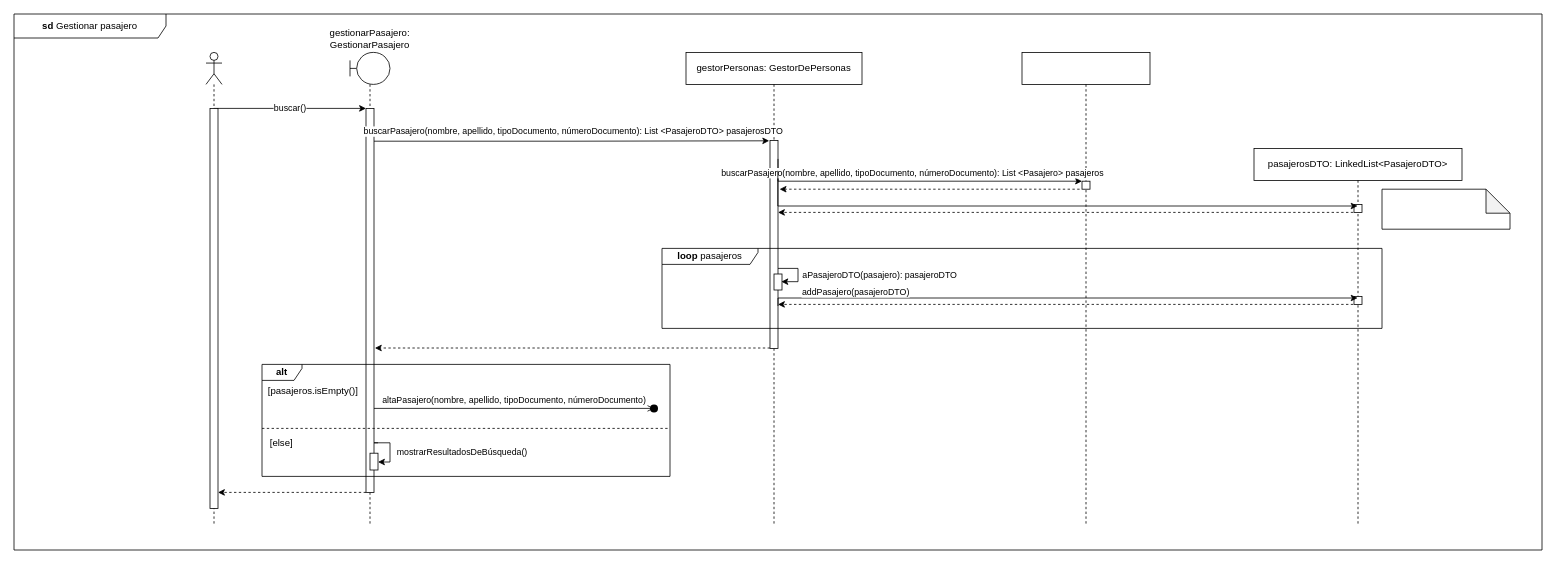
This 1556x564 diagram has some shape labels left out. Each missing label, with the box of its shape:
<<interface>> personaDAO: PersonaDAO: (1021, 52, 1150, 524)
JAVA Collections API: (1381, 188, 1510, 229)
Usuario: (205, 52, 222, 524)
